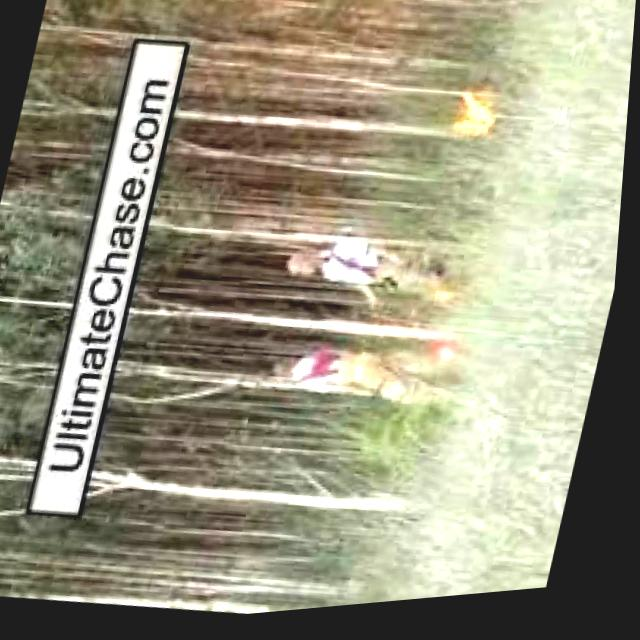Smoke: (454, 98, 506, 149)
